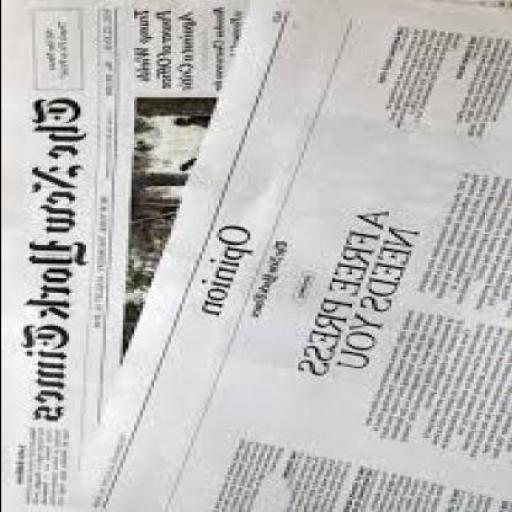paper: (59, 1, 510, 510), (1, 0, 246, 511)
